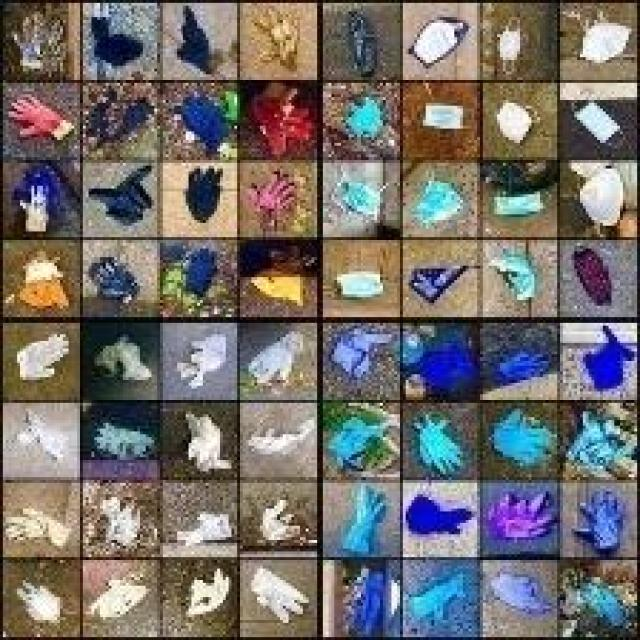Glove: (6, 0, 617, 628), (9, 95, 78, 159)
